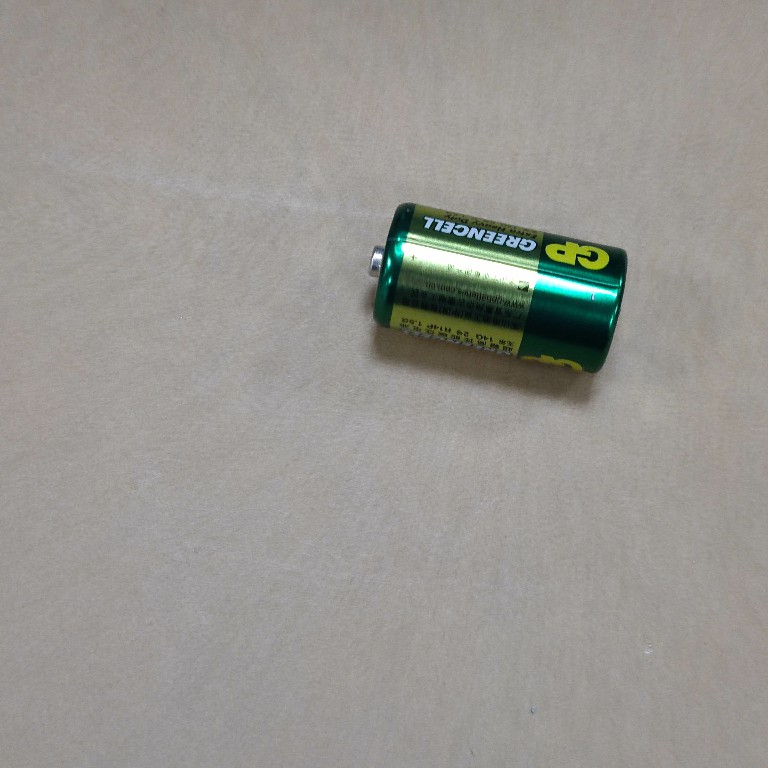charge: (360, 195, 636, 383)
